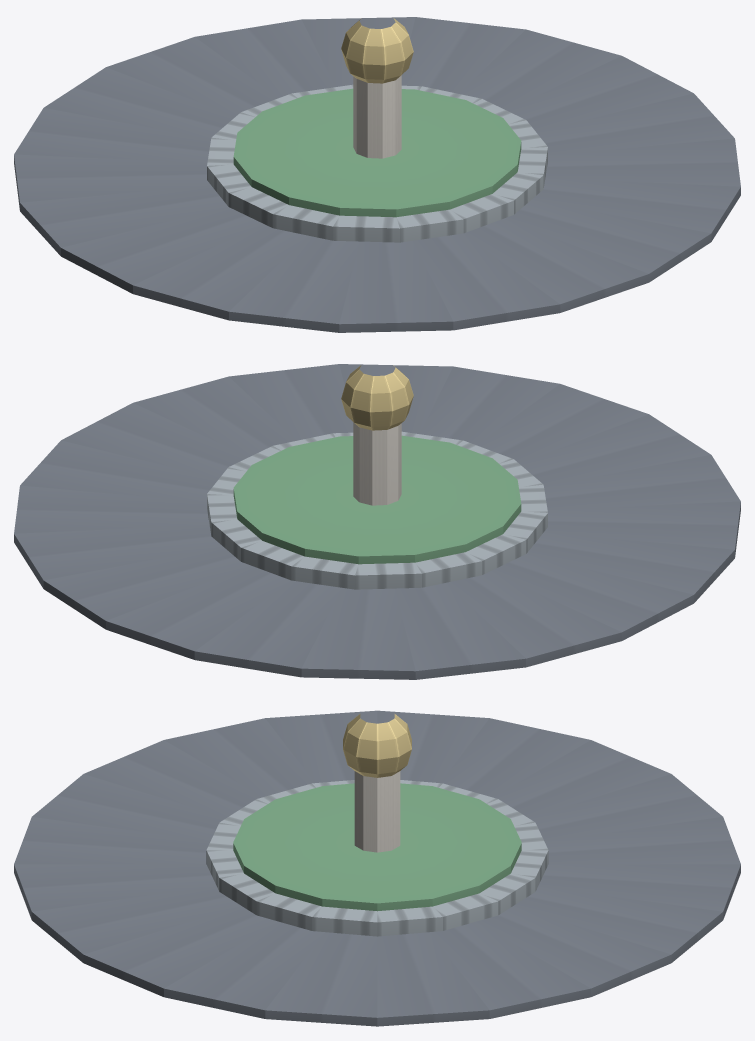
The model's file is roundabout.glb.
3 renders of one model, top to bottom at view 1: azimuth 30°, elevation 25°; view 2: azimuth 150°, elevation 25°; view 3: azimuth 270°, elevation 25°, orthographic.
Parts seen in each view (by area): view 1: roundabout; view 2: roundabout; view 3: roundabout.
Boxes of the visible parts, x1=… form: roundabout: x1=14, y1=17, x2=740, y2=332; roundabout: x1=14, y1=364, x2=740, y2=679; roundabout: x1=14, y1=710, x2=740, y2=1026.
Bounding box in the file's own units: 13.6 × 3.33 × 13.6.
1 material, 1 textured.
